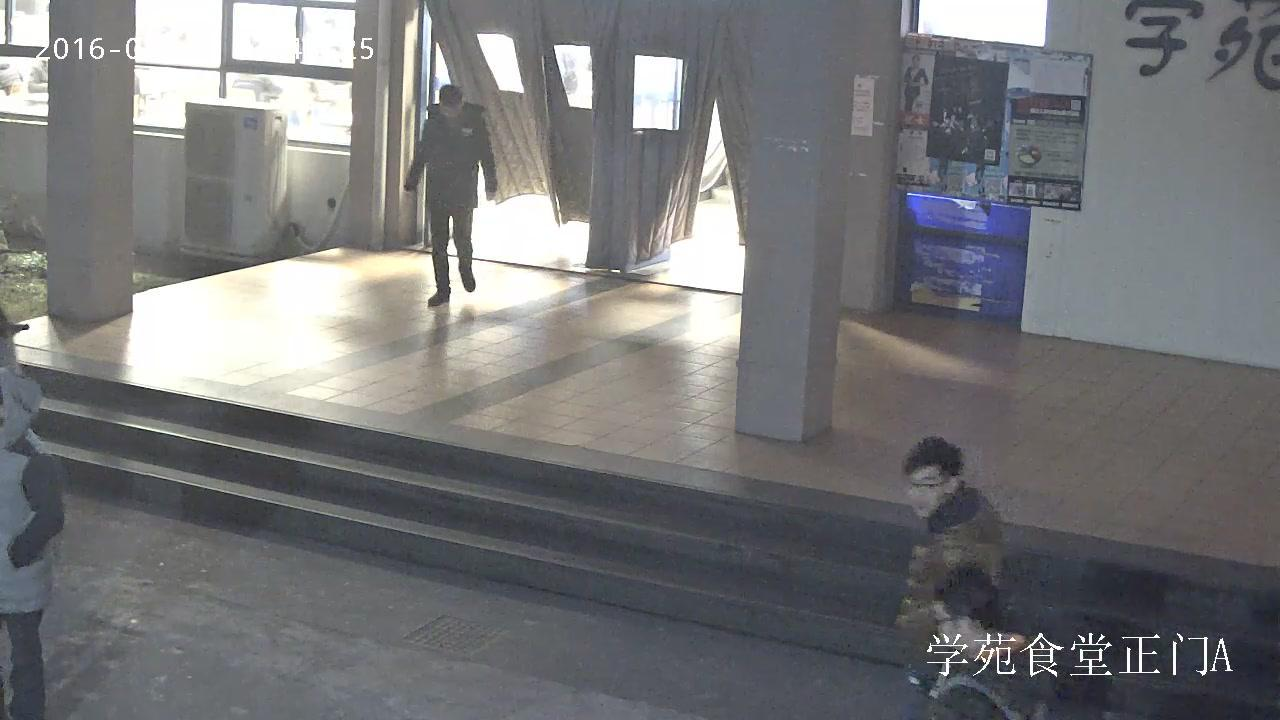person: (894, 435, 1004, 687), (2, 368, 66, 718), (401, 86, 495, 306), (924, 567, 1056, 718), (903, 54, 928, 113)
